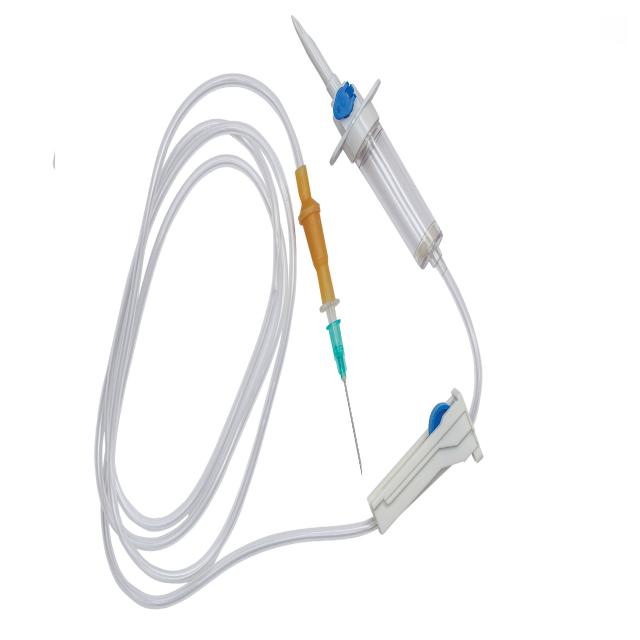B3: (93, 16, 493, 611)
